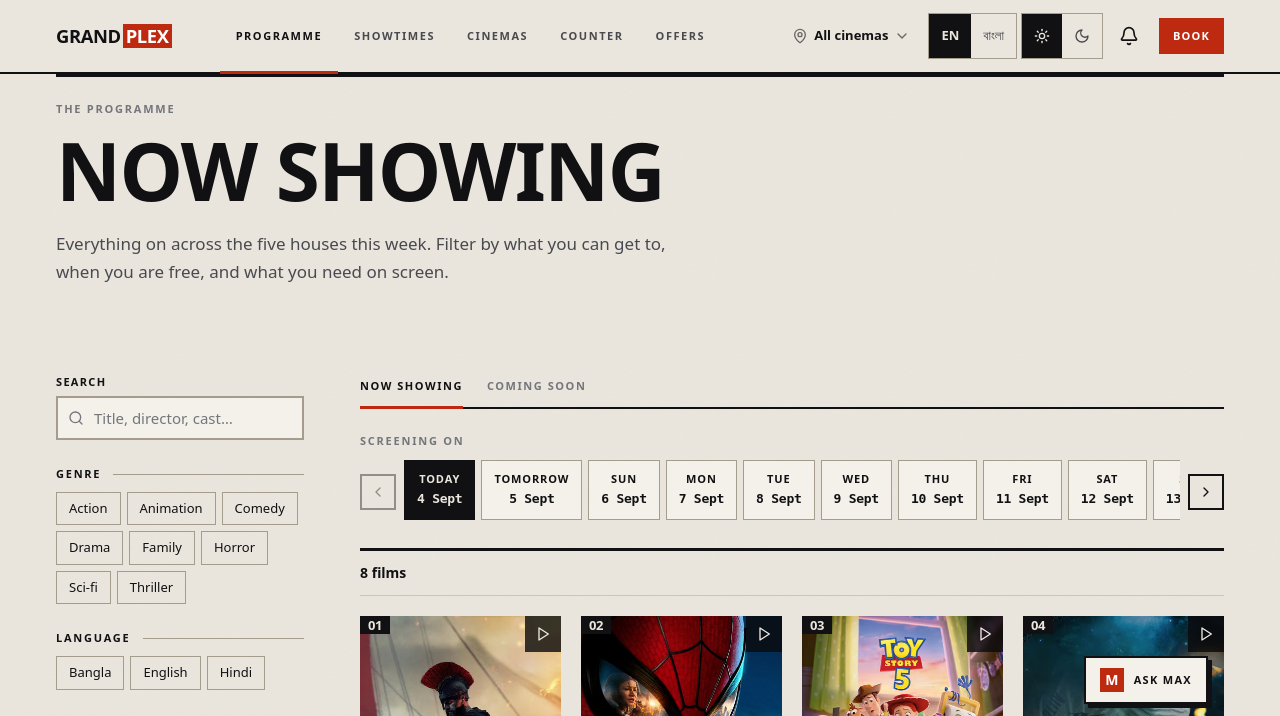
it: the language preference › translates page copy when Bangla is chosen
Expected: the heading "Now showing" is shown, top-left (56, 134), bottom-right (688, 206)
Click the button "বাংলা".
click(994, 36)  # box top-left (971, 14), bottom-right (1016, 58)
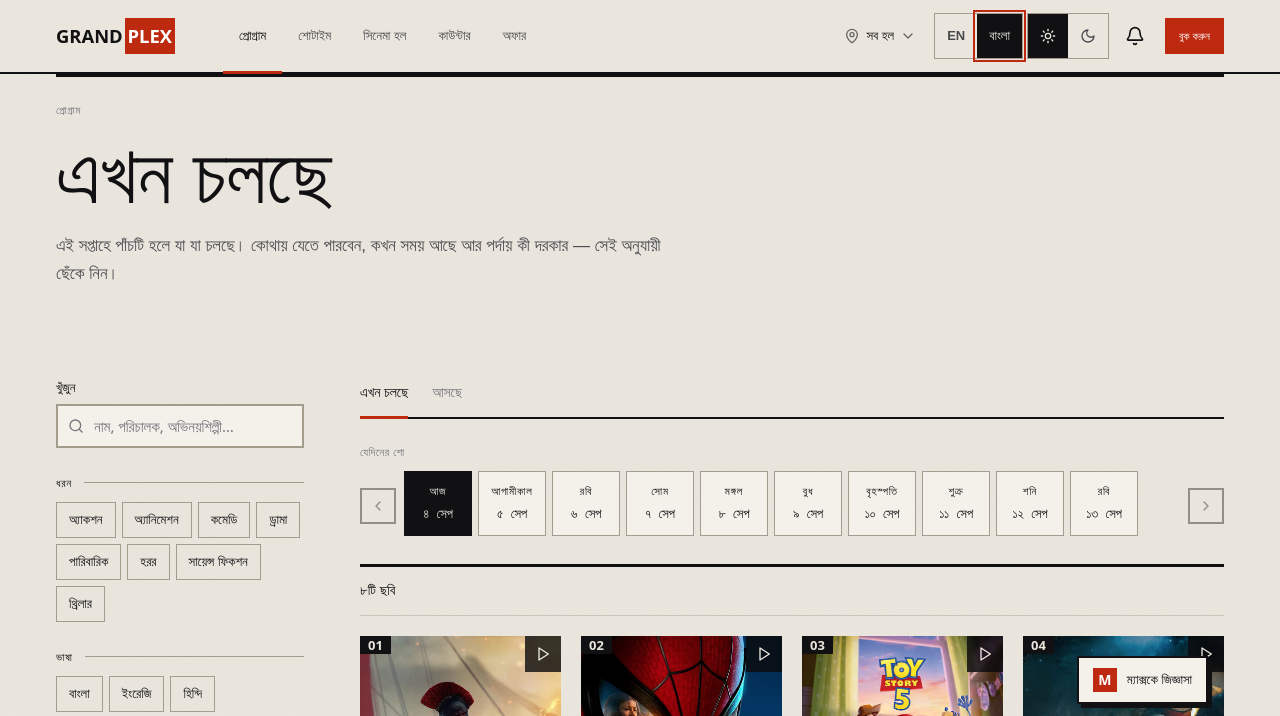
Now the heading "এখন চলছে" is shown, box top-left (56, 117), bottom-right (332, 226)
